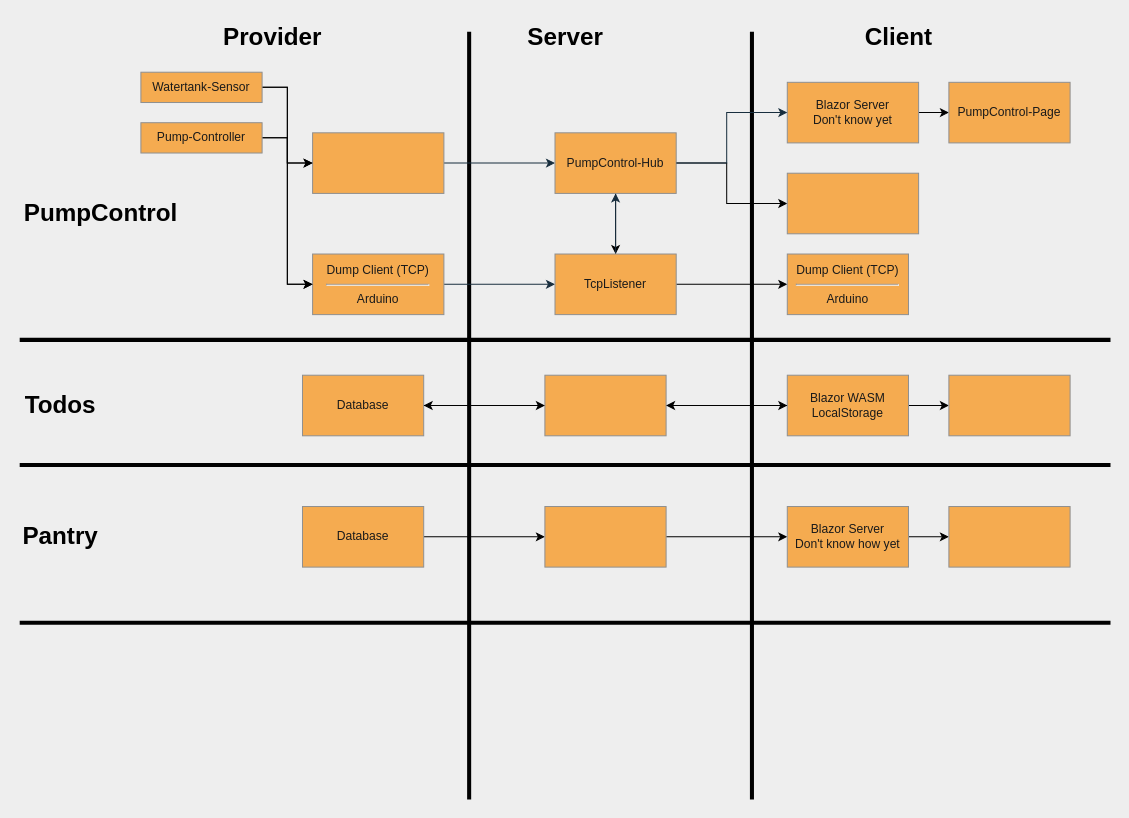
The diagram is 1129 pixels wide and 818 high, and some of its shapes have lost their labels. Here are the shapes that lost their labels. From the top down, the box of each, then its label:
(312, 132, 444, 193): Smart Client (SignalR) Fake-Data RaspberryPi
(786, 172, 919, 234): Smart Client (SignalR) RaspberryPi
(544, 374, 666, 436): TodoHub
(948, 374, 1070, 436): Todos-Page
(544, 506, 666, 567): PantryHub
(948, 506, 1070, 567): Pantry-Page
